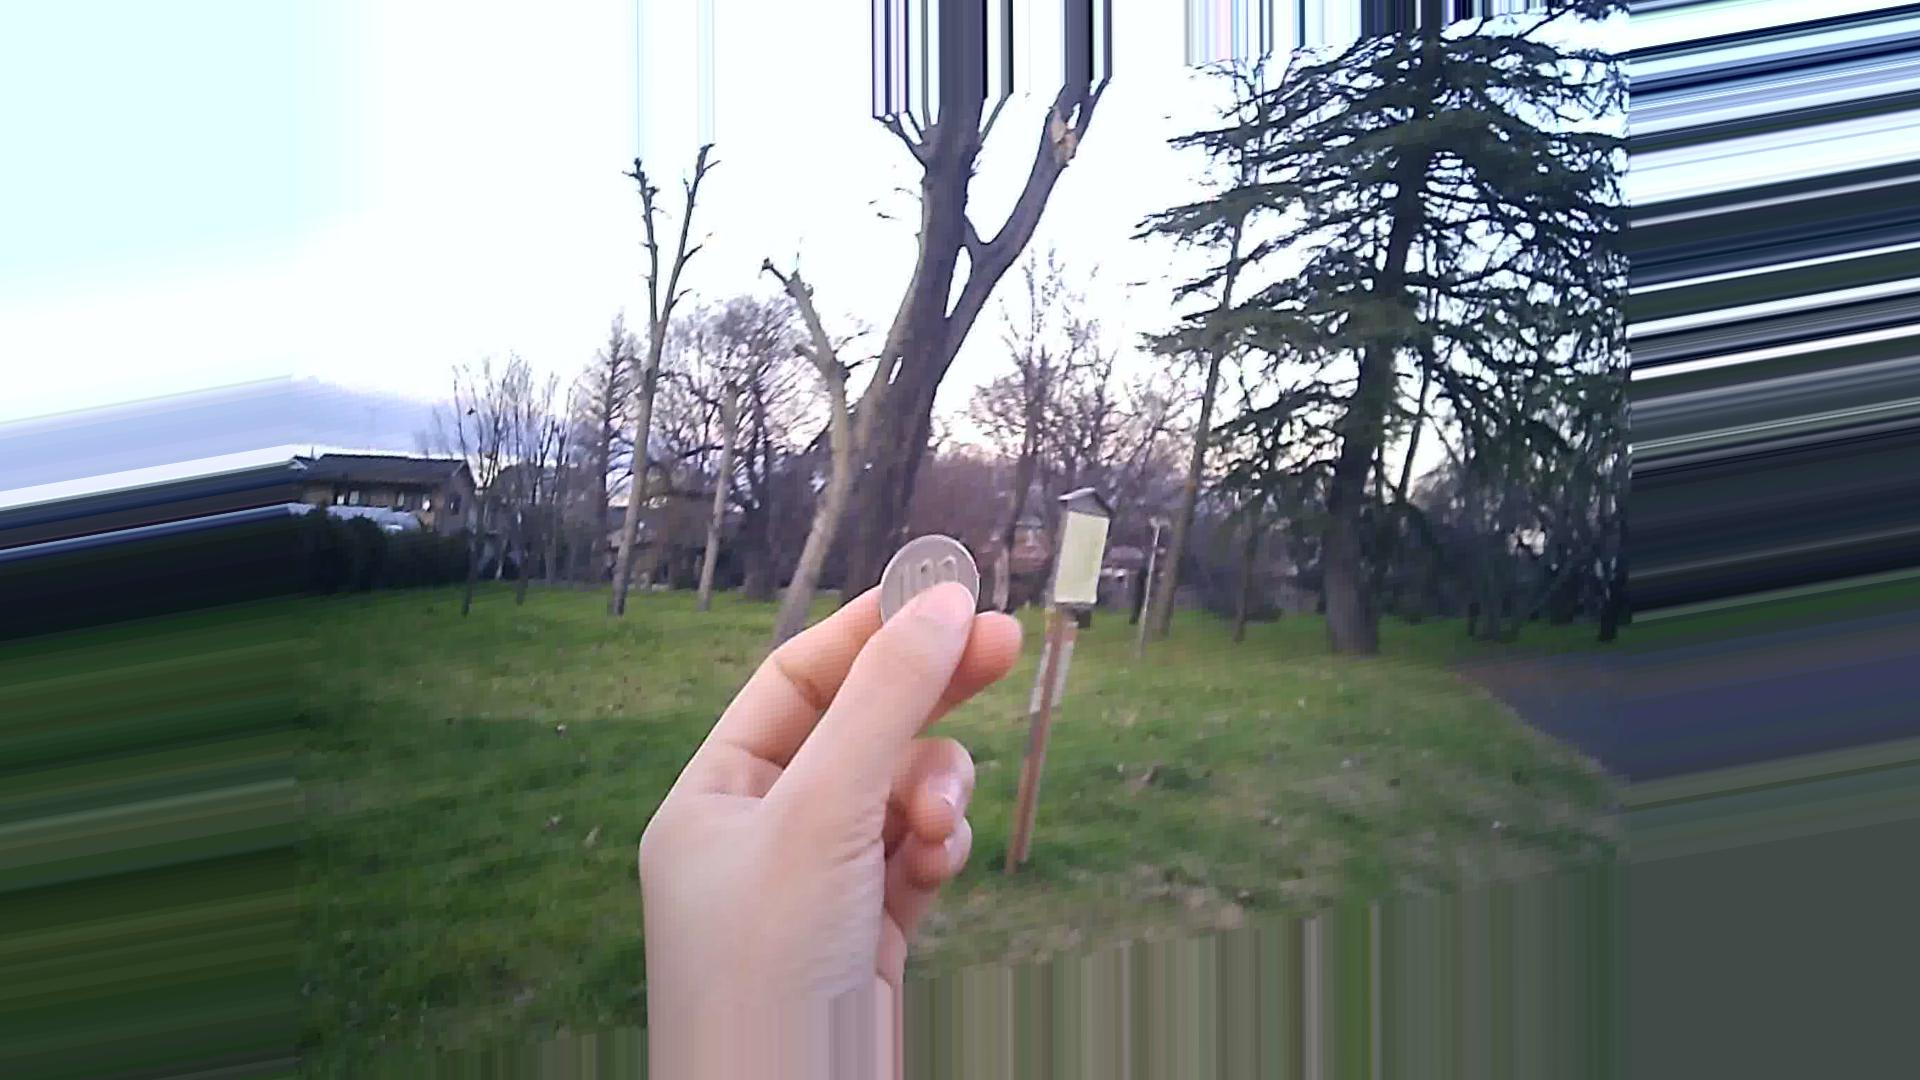100 Yen: (872, 534, 993, 622)
